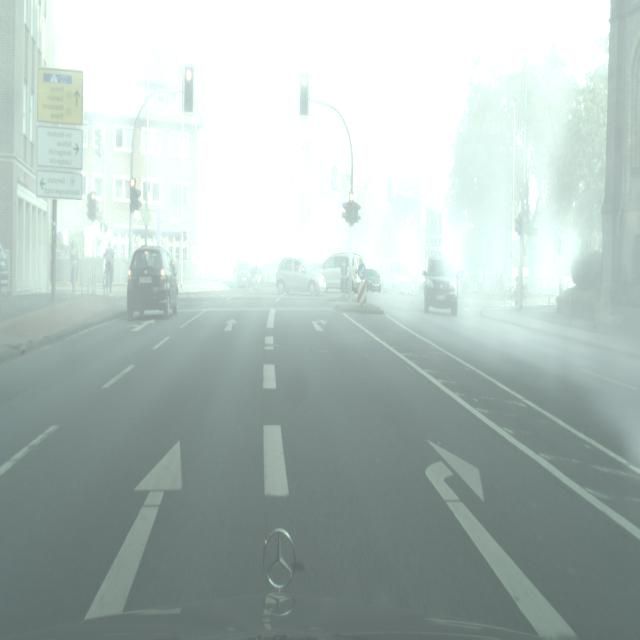car: (127, 247, 179, 320), (423, 257, 458, 316), (276, 257, 325, 296), (321, 254, 366, 291), (379, 257, 411, 295), (0, 242, 11, 295), (234, 261, 251, 288), (247, 263, 266, 287), (366, 267, 381, 291)
person: (103, 239, 115, 297), (69, 241, 78, 294)
truck: (503, 278, 527, 310)
